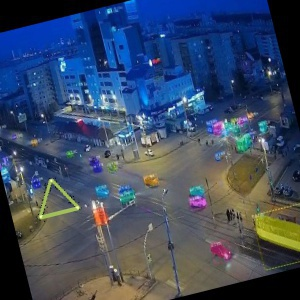triangle: (36, 176, 84, 221)
